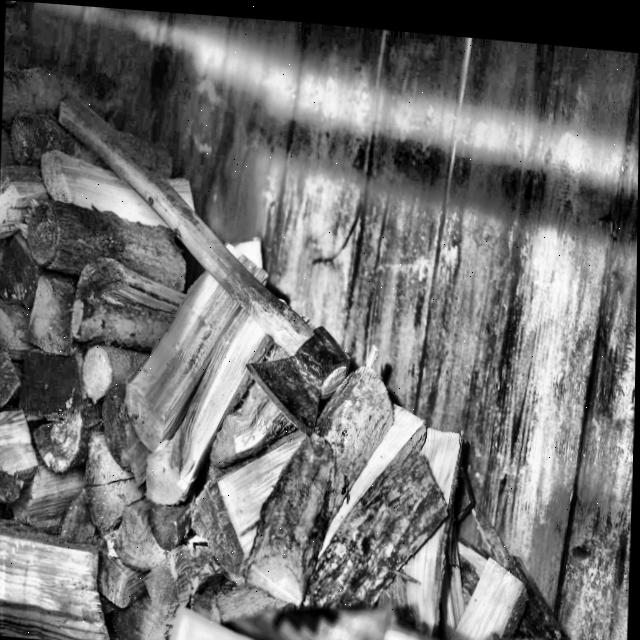kapak: (88, 126, 353, 447)
